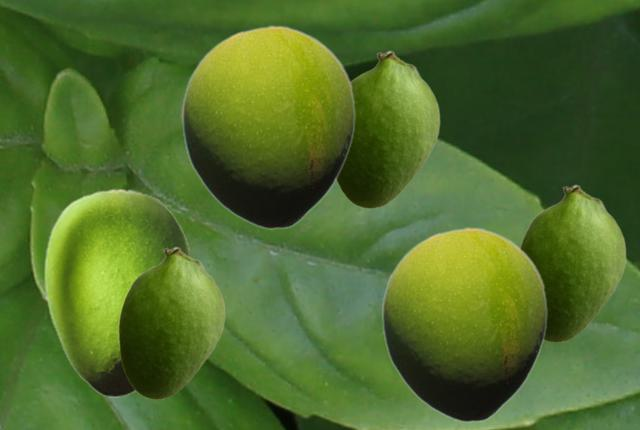green_mango: (181, 25, 355, 229), (381, 227, 547, 422), (43, 188, 191, 396), (520, 184, 625, 341), (118, 246, 224, 398), (337, 50, 439, 207)
